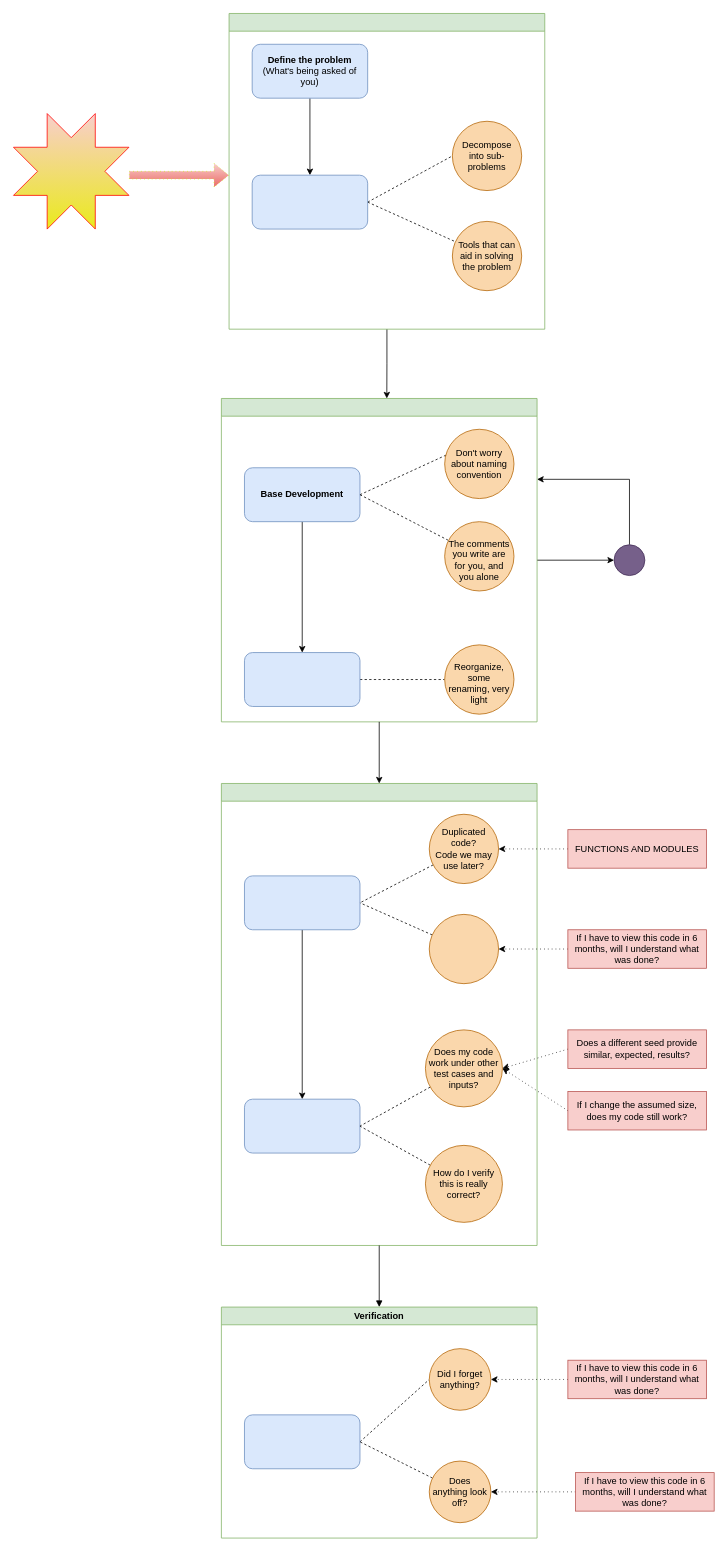
This 728x1552 diagram has some shape labels left out. The box of each missing label's shape, as (x1, y1, x2, y2) in pixels:
"First Pass" Development Phase: (221, 398, 537, 722)
Develop a strategy: (251, 174, 368, 229)
Major Refactoring: (244, 875, 360, 930)
Minor Refactoring: (244, 652, 360, 706)
Most time spent here!!!!: (13, 113, 129, 229)
One last look over of code: (244, 1414, 360, 1469)
Problem Inception and Strategy: (228, 13, 545, 329)
Refactoring - or - "Production-izing the process": (221, 783, 537, 1245)
Renaming, working on consistency: (429, 914, 499, 984)
Testing: (244, 1098, 360, 1153)
